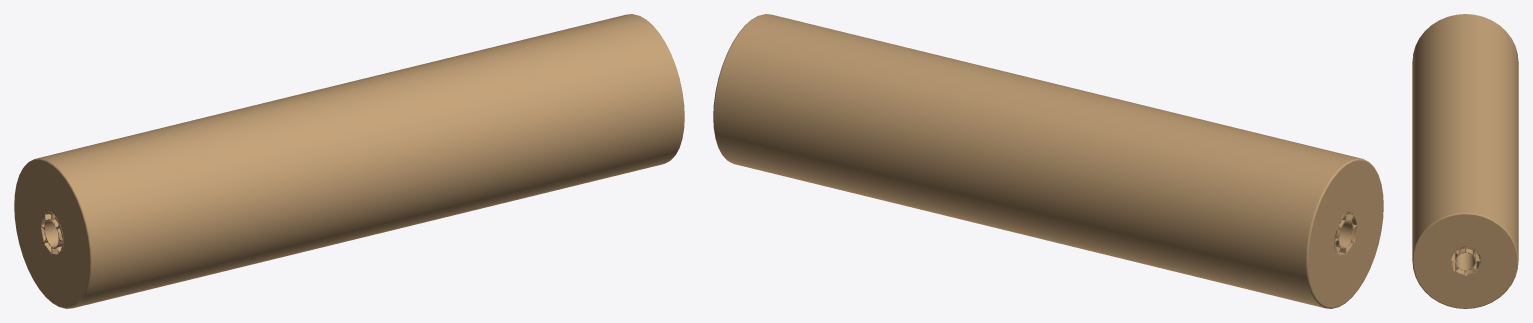
The model's file is paper_roll_a02.glb.
3 views of the same model, side by side, from view 1: azimuth 30°, elevation 25°; view 2: azimuth 150°, elevation 25°; view 3: azimuth 270°, elevation 25° (orthographic). The views are drawn at different scales.
Size of the model in its own units: 0.6637 by 0.1489 by 0.1489.
